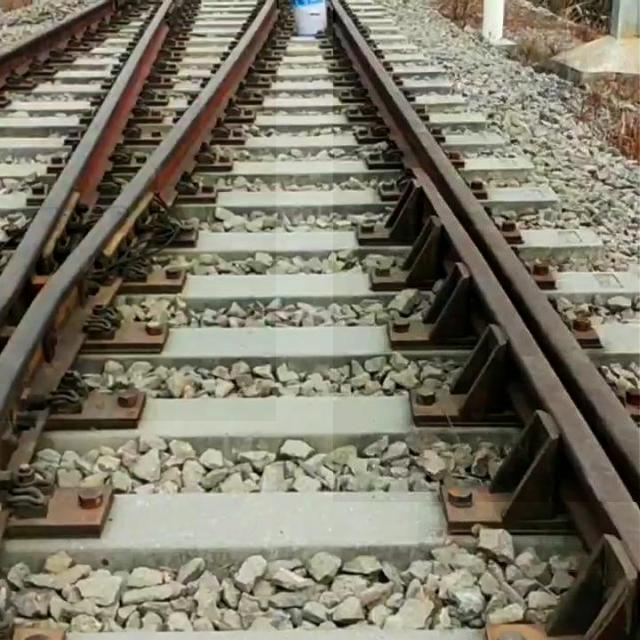rail: (335, 1, 640, 503), (1, 1, 277, 422), (419, 170, 640, 572), (2, 1, 173, 325), (2, 2, 118, 86)
